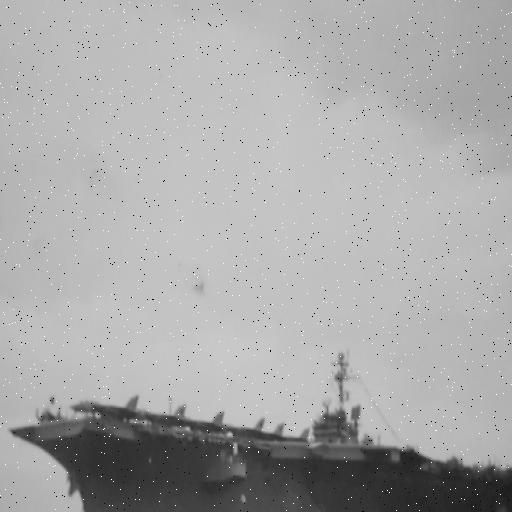Portanaves: (3, 340, 512, 512)
